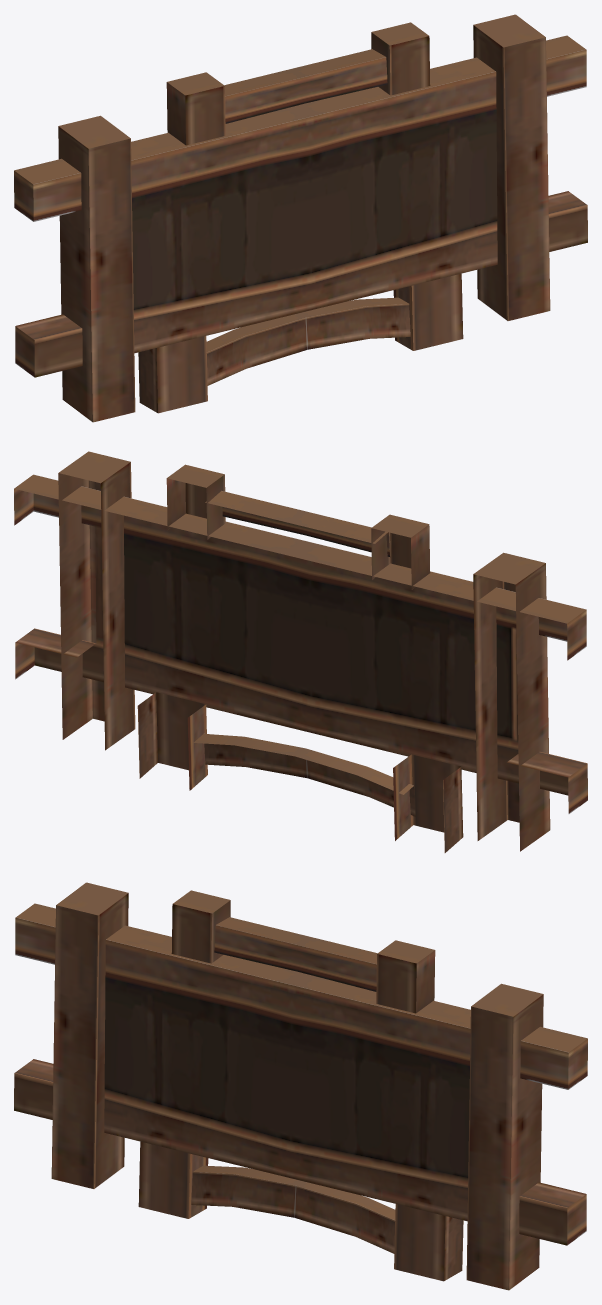
The model's file is FH_Env_MenPai_03.FBX.
3 renders of one model, top to bottom at view 1: azimuth 30°, elevation 25°; view 2: azimuth 150°, elevation 25°; view 3: azimuth 330°, elevation 25°, orthographic.
Parts seen in each view (by area): view 1: Object01; view 2: Object01; view 3: Object01.
Boxes of the visible parts, left/top/right/bottom form: Object01: left=14, top=14, right=587, bottom=422; Object01: left=14, top=451, right=587, bottom=852; Object01: left=14, top=882, right=587, bottom=1290.
Bounding box in the file's own units: 6.04 × 3.24 × 0.6559.
